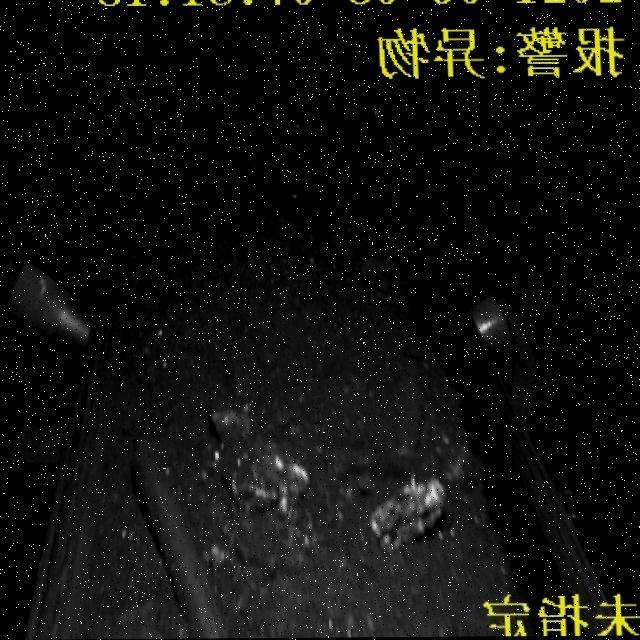bolt: (130, 446, 224, 639)
large_sized_coal: (211, 416, 305, 510), (367, 472, 446, 554), (253, 211, 306, 256), (352, 250, 394, 294)
